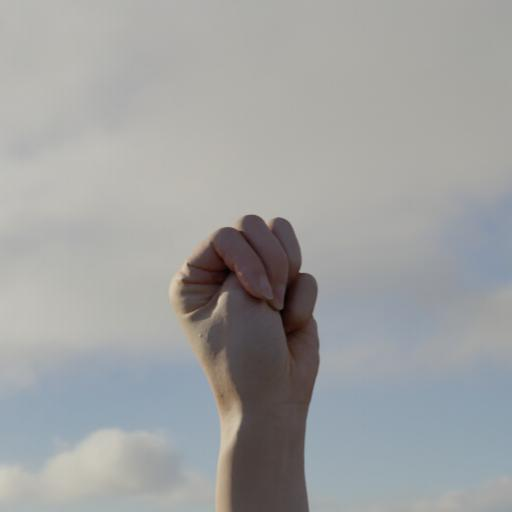M: (147, 188, 337, 399)
